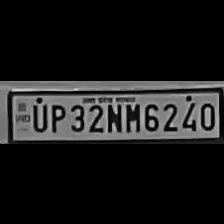0: (196, 98, 216, 130)
2: (86, 98, 104, 132), (160, 99, 178, 131)
3: (67, 99, 85, 131)
4: (178, 98, 196, 130)
6: (140, 99, 158, 130)
M: (124, 99, 140, 131)
N: (104, 98, 122, 132)
P: (48, 100, 64, 132)
U: (28, 99, 46, 131)
